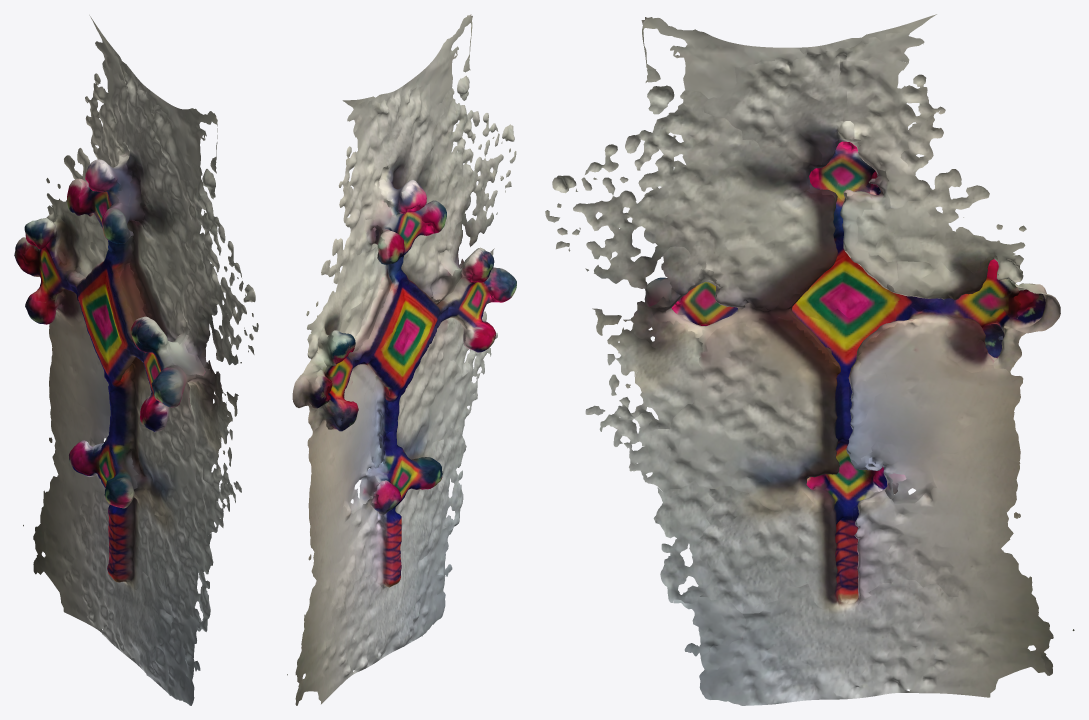
File: ojos.obj
3 views of the same model, side by side, from view 1: azimuth 30°, elevation 25°; view 2: azimuth 150°, elevation 25°; view 3: azimuth 270°, elevation 25° (orthographic). The views are drawn at different scales.
Visible parts, largest first — view 1: Object; view 2: Object; view 3: Object.
Boxes of the visible parts, x1,y1,x2,y2 form: Object: (14, 15, 258, 705); Object: (287, 14, 516, 705); Object: (545, 14, 1074, 705).
Size of the model in its own units: 0.0876 by 0.8817 by 0.6113.
